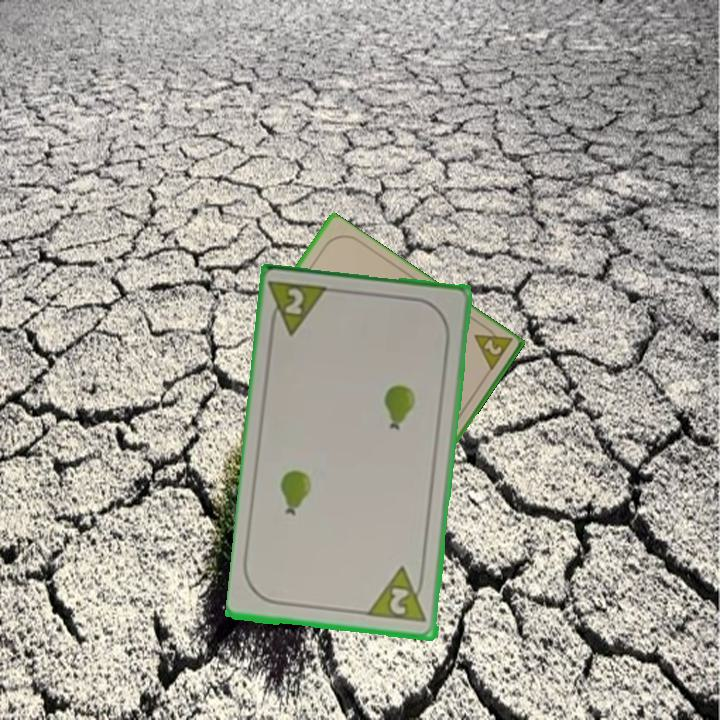2p: (266, 277, 333, 340), (366, 564, 430, 626), (480, 336, 505, 358)
